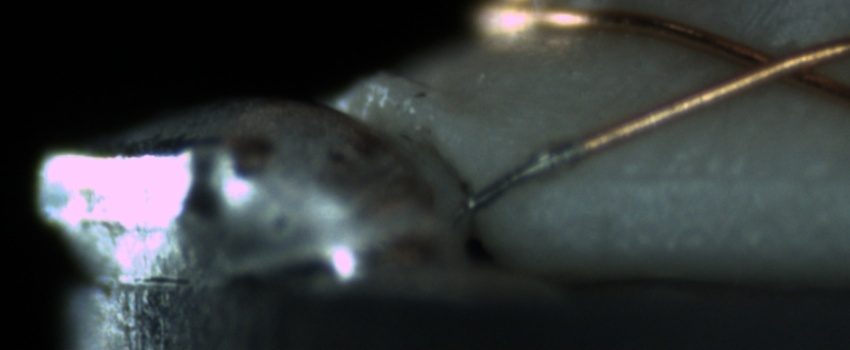CL: (708, 33, 841, 95)
DL: (526, 148, 850, 216)
TS: (469, 137, 583, 212)
TTCW: (465, 124, 633, 207)
